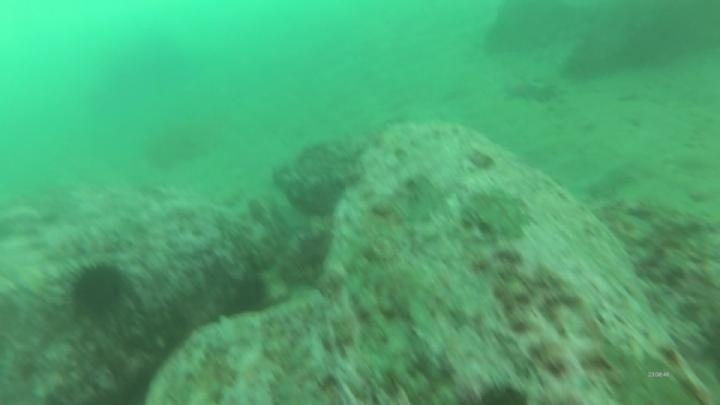echinus: (63, 257, 130, 322), (224, 273, 272, 318)
holothurian: (500, 74, 562, 108)
